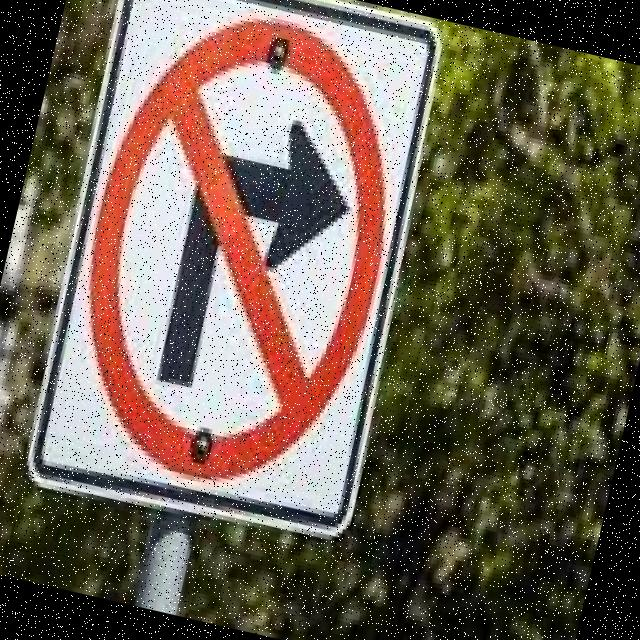do_not_turn_right: (44, 0, 434, 509)
